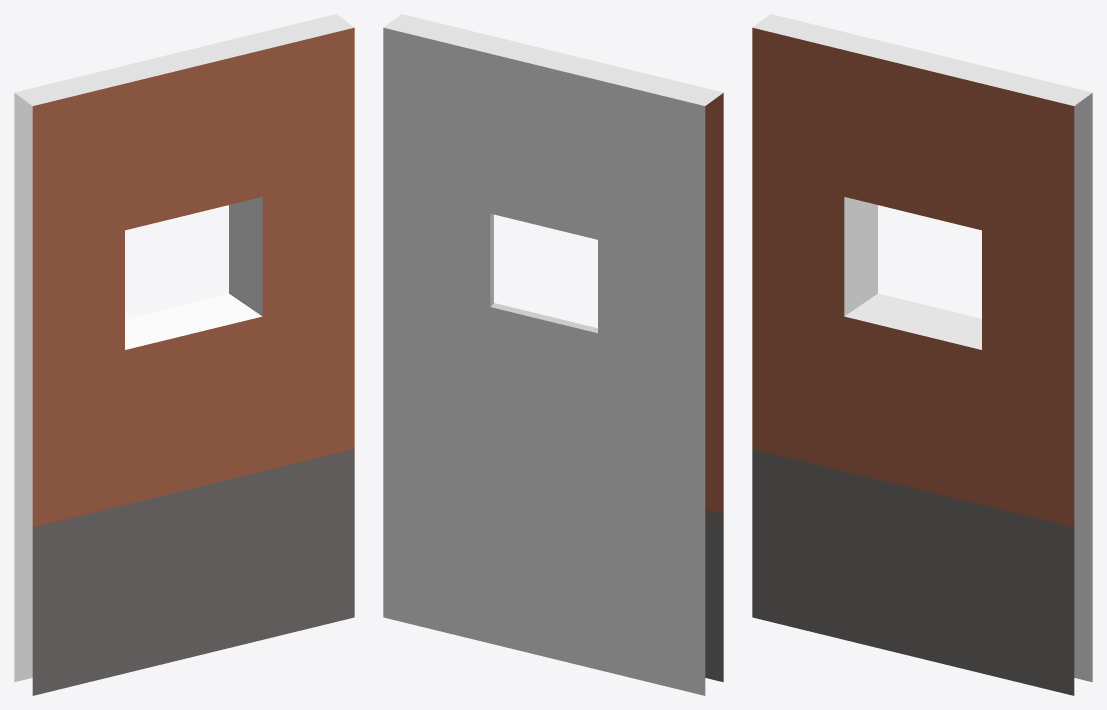
The model's file is SM_Outer_Wall_Grid_200.FBX.
3 views of the same model, side by side, from view 1: azimuth 30°, elevation 25°; view 2: azimuth 150°, elevation 25°; view 3: azimuth 330°, elevation 25° (orthographic).
Parts seen in each view (by area): view 1: SM_Outer_Wall_Grid_200; view 2: SM_Outer_Wall_Grid_200; view 3: SM_Outer_Wall_Grid_200.
Part boxes in pixels (box(x1,y1,x2,y2)): SM_Outer_Wall_Grid_200: box(14, 14, 354, 695); SM_Outer_Wall_Grid_200: box(383, 14, 723, 695); SM_Outer_Wall_Grid_200: box(752, 14, 1092, 695).
Size of the model in its own units: 200 by 20 by 350.
